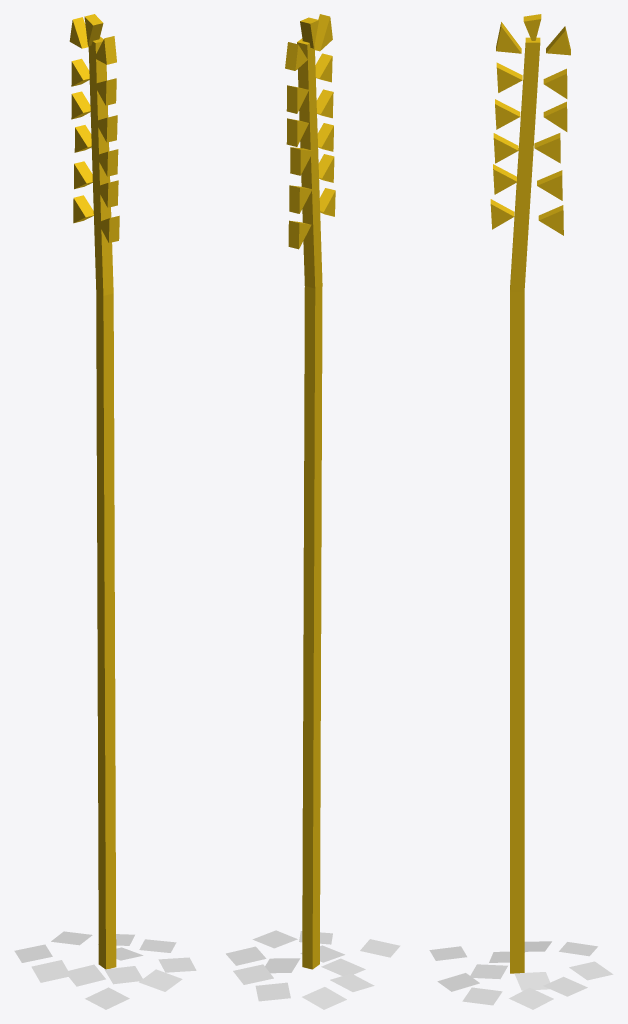
Rendered from wheat.glb.
3 views of the same model, side by side, from view 1: azimuth 30°, elevation 25°; view 2: azimuth 150°, elevation 25°; view 3: azimuth 270°, elevation 25° (orthographic).
Visible parts, largest first — view 1: wheat, wheat_copy.003, wheat_copy.002, wheat_copy.008, wheat_copy.001, wheat_copy.007, wheat_copy.004, wheat_copy.009; view 2: wheat, wheat_copy.009, wheat_copy.006, wheat_copy.010, wheat_copy.011, wheat_copy.008, wheat_copy.003, wheat_copy.004, wheat_copy.005, wheat_copy.001; view 3: wheat, wheat_copy.011, wheat_copy.005, wheat_copy.004, wheat_copy.006, wheat_copy.010, wheat_copy.002, wheat_copy.007.
Part boxes in pixels (box(x1,y1,x2,y2)): wheat: box(69, 14, 119, 969); wheat_copy.003: box(31, 960, 70, 982); wheat_copy.002: box(139, 969, 182, 991); wheat_copy.008: box(85, 987, 129, 1009); wheat_copy.001: box(68, 964, 105, 986); wheat_copy.007: box(104, 966, 142, 984); wheat_copy.004: box(158, 957, 196, 972); wheat_copy.009: box(14, 944, 52, 962); wheat: box(285, 14, 335, 969); wheat_copy.009: box(302, 987, 346, 1009); wheat_copy.006: box(255, 982, 290, 1001); wheat_copy.010: box(233, 964, 273, 984); wheat_copy.011: box(226, 946, 266, 965); wheat_copy.008: box(360, 939, 400, 957); wheat_copy.003: box(330, 973, 374, 991); wheat_copy.004: box(252, 930, 297, 948); wheat_copy.005: box(265, 958, 300, 973); wheat_copy.001: box(321, 958, 365, 975); wheat: box(490, 14, 570, 973); wheat_copy.011: box(509, 987, 553, 1009); wheat_copy.005: box(514, 972, 549, 990); wheat_copy.004: box(462, 987, 502, 1005); wheat_copy.006: box(569, 961, 613, 980); wheat_copy.010: box(543, 976, 587, 996); wheat_copy.002: box(437, 973, 479, 991); wheat_copy.007: box(470, 964, 507, 979).
Size of the model in its own units: 0.1287 by 0.8199 by 0.1434.
